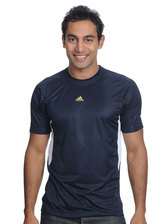clothoes: (26, 64, 147, 218)
